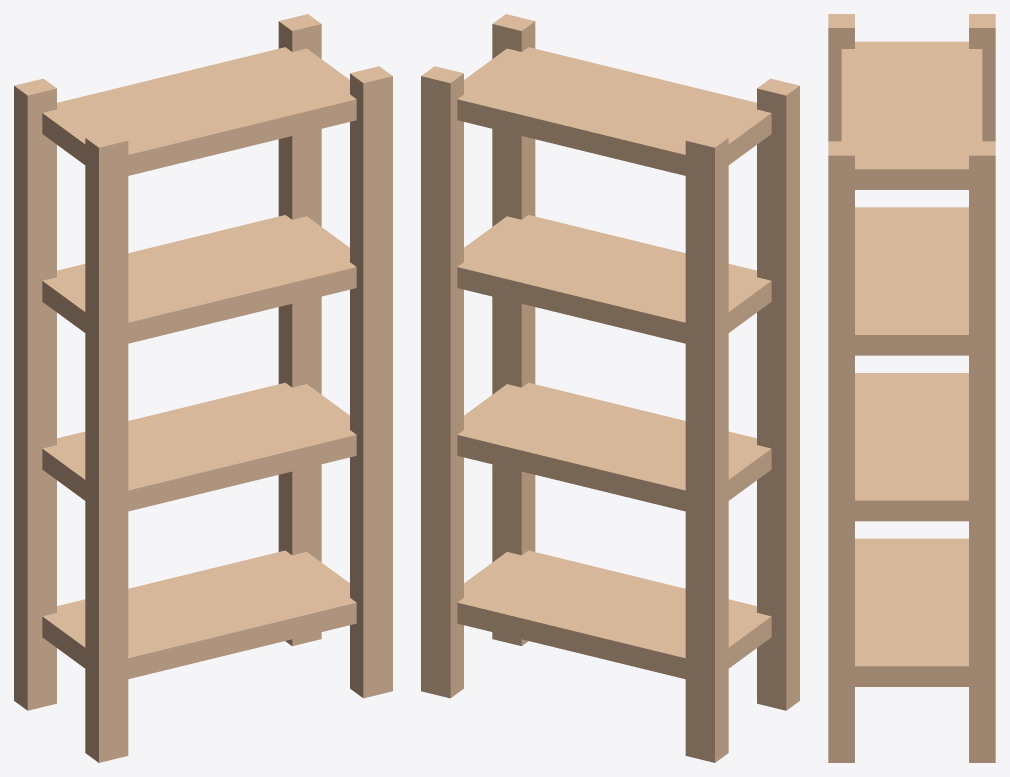
File: bookcaseOpen-col.glb
3 views of the same model, side by side, from view 1: azimuth 30°, elevation 25°; view 2: azimuth 150°, elevation 25°; view 3: azimuth 270°, elevation 25° (orthographic).
Parts seen in each view (by area): view 1: bookcaseOpen-col; view 2: bookcaseOpen-col; view 3: bookcaseOpen-col.
Boxes of the visible parts, <box> form: bookcaseOpen-col: <box>14,14,392,762</box>; bookcaseOpen-col: <box>421,14,799,762</box>; bookcaseOpen-col: <box>828,14,995,762</box>.
Size of the model in its own units: 0.5 by 1 by 0.25.
